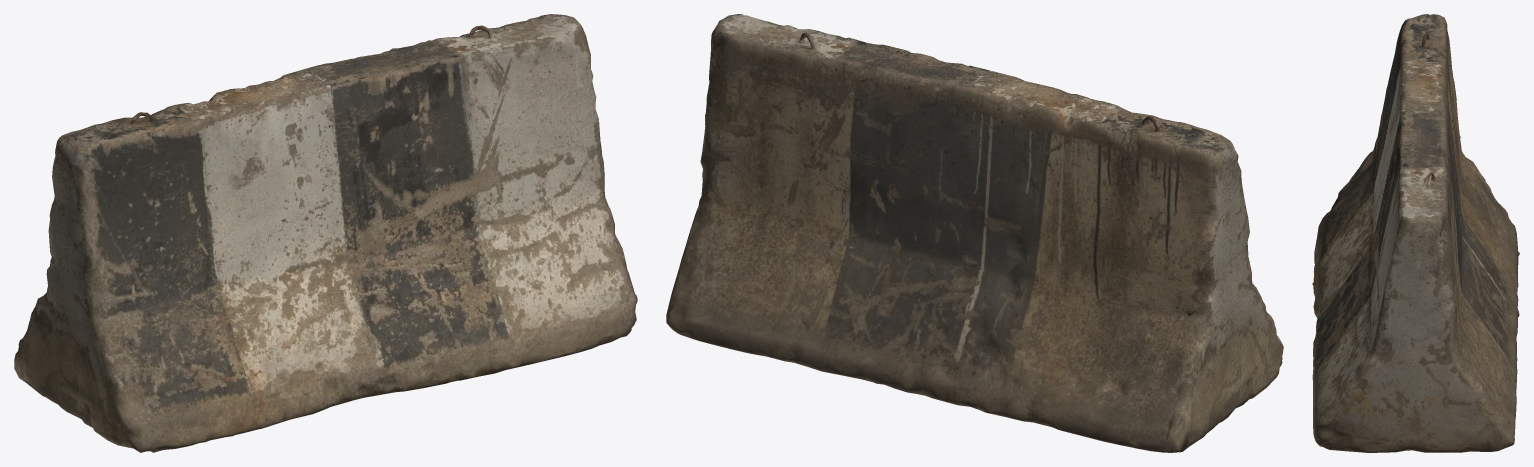
File: concrete_road_barrier.glb
3 views of the same model, side by side, from view 1: azimuth 30°, elevation 25°; view 2: azimuth 150°, elevation 25°; view 3: azimuth 270°, elevation 25° (orthographic). The views are drawn at different scales.
Visible parts, largest first — view 1: concrete_road_barrier; view 2: concrete_road_barrier; view 3: concrete_road_barrier.
Boxes of the visible parts, x1,y1,x2,y2 form: concrete_road_barrier: (14,14,637,452); concrete_road_barrier: (666,14,1283,452); concrete_road_barrier: (1312,14,1519,452).
Size of the model in its own units: 1.54 by 0.8303 by 0.6387.
1 material, 1 textured.
